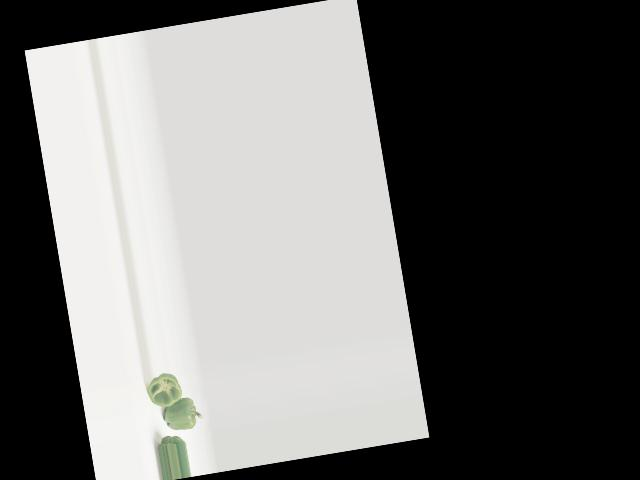bell_pepper: (142, 368, 187, 411)
